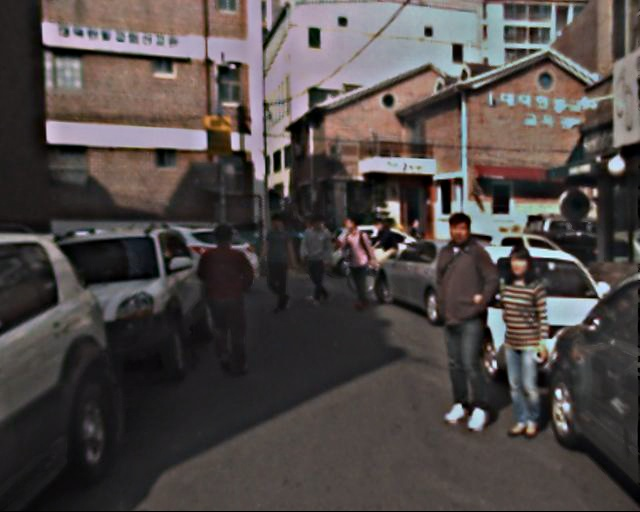person: (415, 213, 503, 427), (478, 247, 555, 435), (190, 224, 255, 382), (256, 213, 297, 312), (334, 215, 373, 310), (296, 213, 335, 307), (367, 215, 395, 284)
